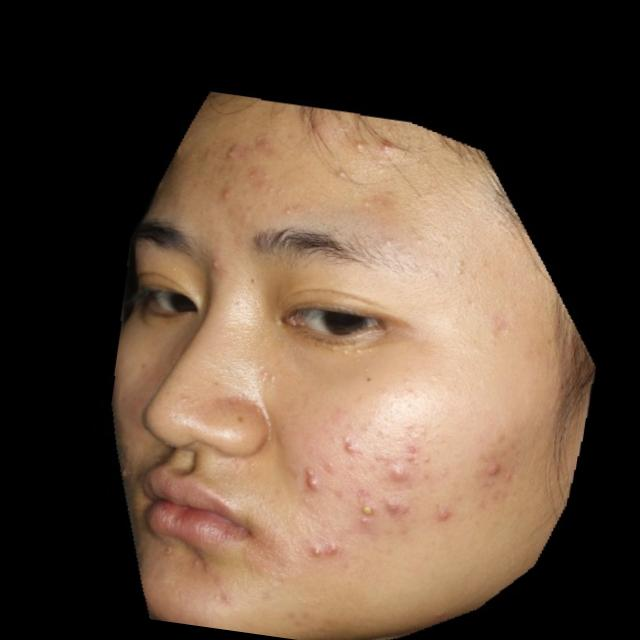blackhead: (235, 415, 245, 424)
nodule: (385, 462, 415, 488), (384, 497, 402, 517), (304, 476, 320, 492), (486, 461, 501, 478), (436, 507, 451, 522)
